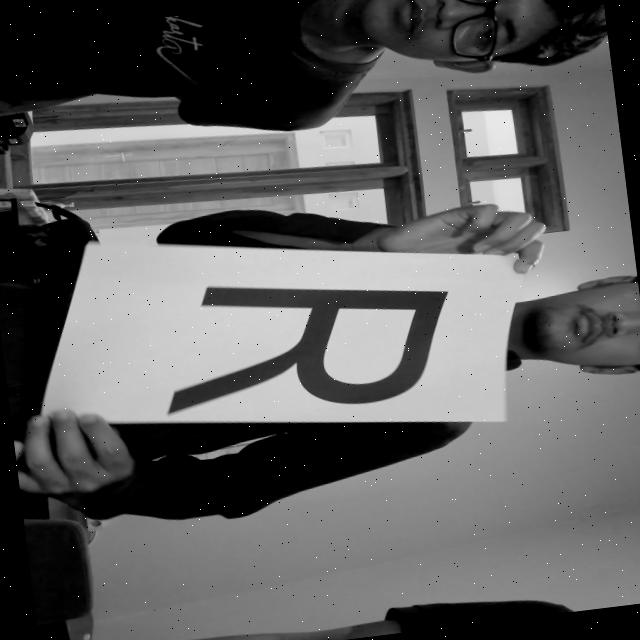r: (140, 247, 474, 428)
